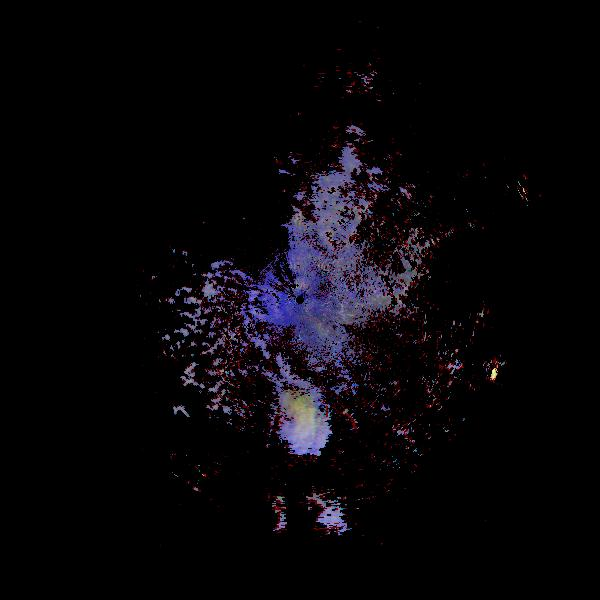roost: (249, 384, 327, 462), (243, 495, 291, 543), (305, 491, 344, 530)
